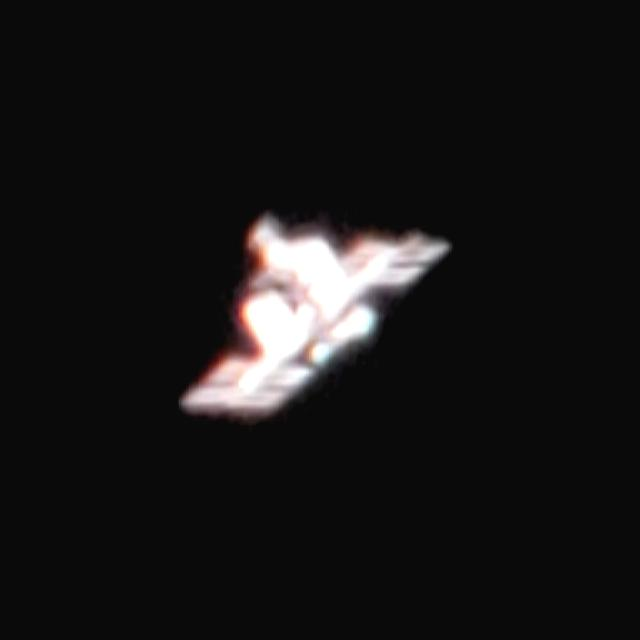medium_debris: (180, 214, 451, 421)
